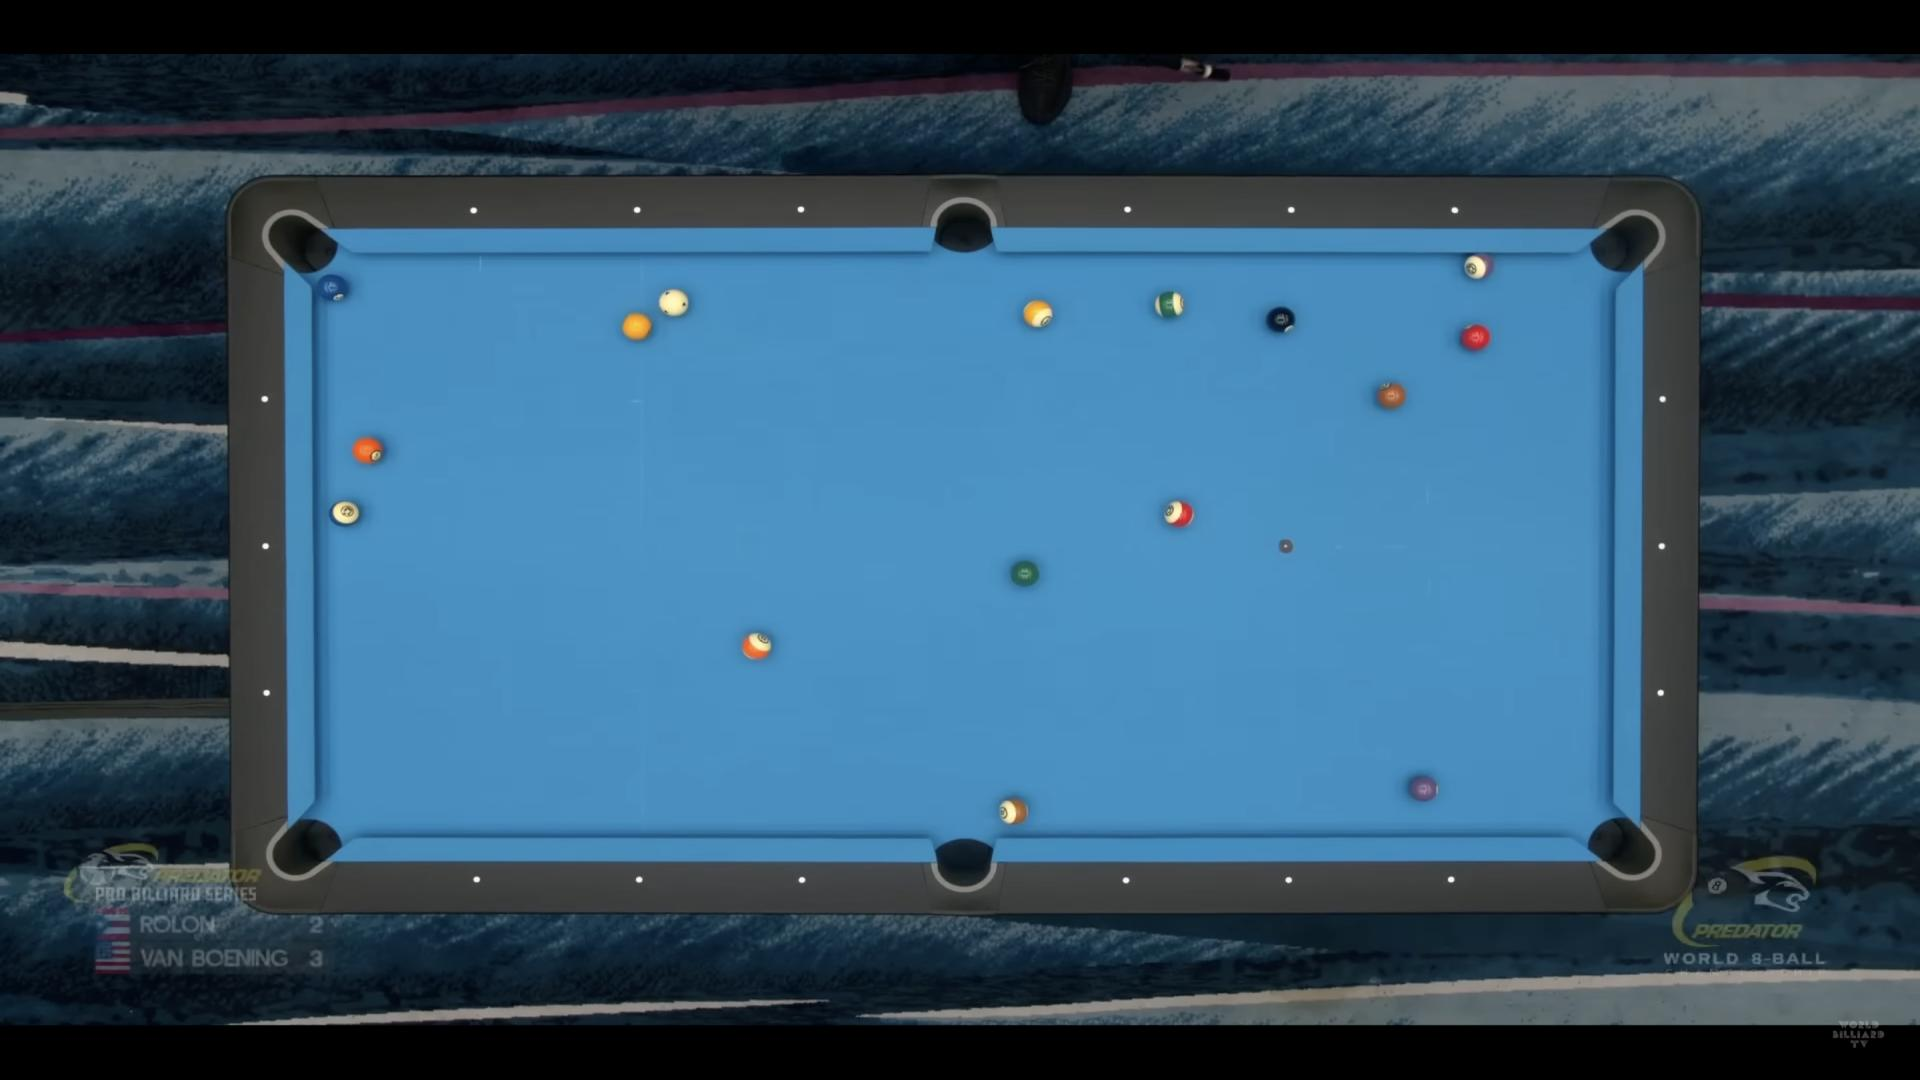Black: (1266, 306, 1295, 332)
Cue: (658, 289, 690, 316)
Dot: (1121, 204, 1135, 218), (1284, 203, 1299, 216), (1448, 204, 1462, 218), (1656, 687, 1668, 699), (1656, 394, 1668, 406), (796, 876, 808, 886), (633, 874, 645, 885), (471, 876, 483, 886), (261, 688, 273, 699), (1656, 541, 1668, 551), (467, 206, 479, 216), (632, 204, 644, 215), (795, 206, 807, 216), (258, 394, 272, 404), (1283, 876, 1294, 886), (258, 541, 270, 550), (1447, 876, 1457, 885), (1121, 876, 1131, 885)
Solid: (316, 274, 348, 301), (1461, 323, 1490, 351), (622, 313, 653, 339), (352, 438, 384, 463), (1377, 382, 1406, 409), (1010, 560, 1039, 587), (1410, 775, 1439, 800)
Striped: (1163, 500, 1193, 527), (741, 633, 771, 661), (328, 500, 360, 526), (1464, 253, 1494, 280), (1023, 301, 1054, 327), (1000, 798, 1029, 824), (1155, 291, 1184, 316)
